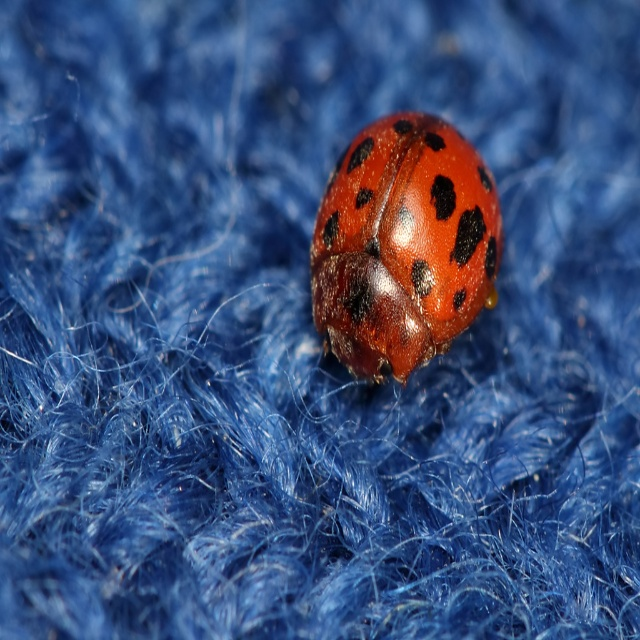Ladybug: (309, 110, 503, 387)
